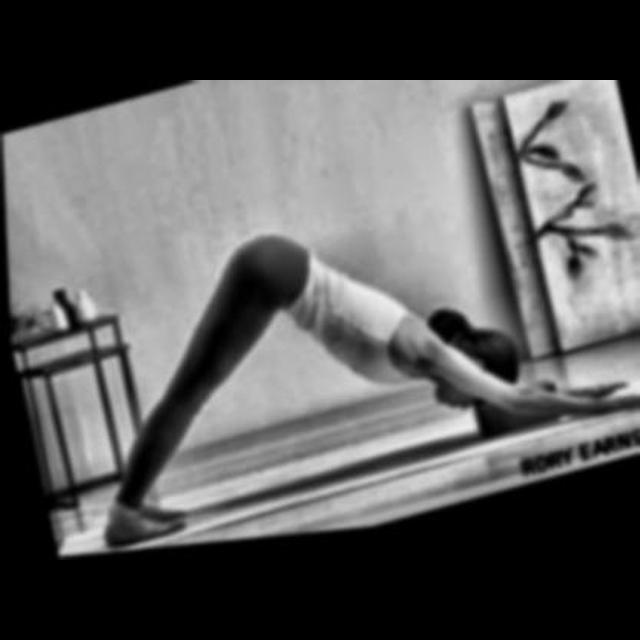Downward-Facing_Dog: (96, 224, 637, 555)
